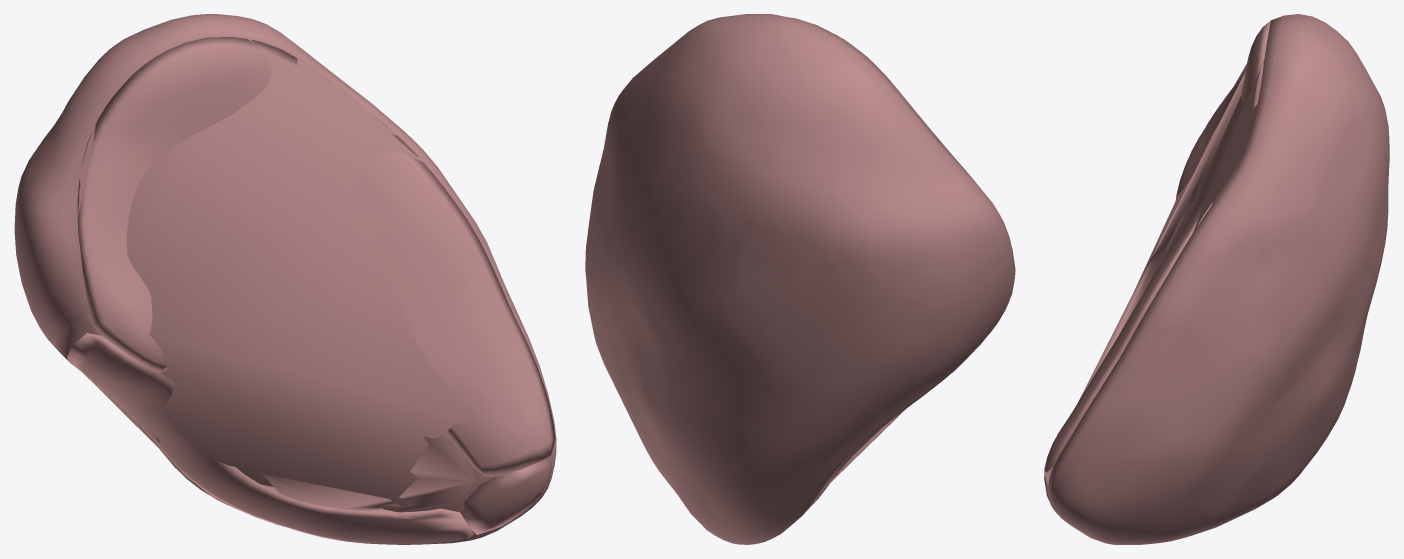
The model's file is vh_f_spleen-40.glb.
The picture shows the model from 3 angles, left to right: view 1: azimuth 30°, elevation 25°; view 2: azimuth 150°, elevation 25°; view 3: azimuth 270°, elevation 25°; orthographic projection. The views are drawn at different scales.
Visible parts, largest first — view 1: VH_F_diaphragmatic_surface_of_spleen, VH_F_gastric_surface_of_spleen, VH_F_renal_surface_of_spleen, VH_F_hilum_of_spleen, VH_F_colic_surface_of_spleen; view 2: VH_F_diaphragmatic_surface_of_spleen, VH_F_renal_surface_of_spleen; view 3: VH_F_diaphragmatic_surface_of_spleen, VH_F_gastric_surface_of_spleen.
Boxes of the visible parts, bbox=[...] form: VH_F_diaphragmatic_surface_of_spleen: bbox=[14, 14, 556, 544]; VH_F_gastric_surface_of_spleen: bbox=[77, 37, 555, 476]; VH_F_renal_surface_of_spleen: bbox=[67, 333, 473, 544]; VH_F_hilum_of_spleen: bbox=[170, 374, 475, 511]; VH_F_colic_surface_of_spleen: bbox=[464, 458, 552, 534]; VH_F_diaphragmatic_surface_of_spleen: bbox=[585, 14, 1015, 544]; VH_F_renal_surface_of_spleen: bbox=[803, 300, 1009, 514]; VH_F_diaphragmatic_surface_of_spleen: bbox=[1048, 14, 1389, 544]; VH_F_gastric_surface_of_spleen: bbox=[1044, 20, 1271, 472].
Size of the model in its own units: 0.0896 by 0.1023 by 0.0709.
